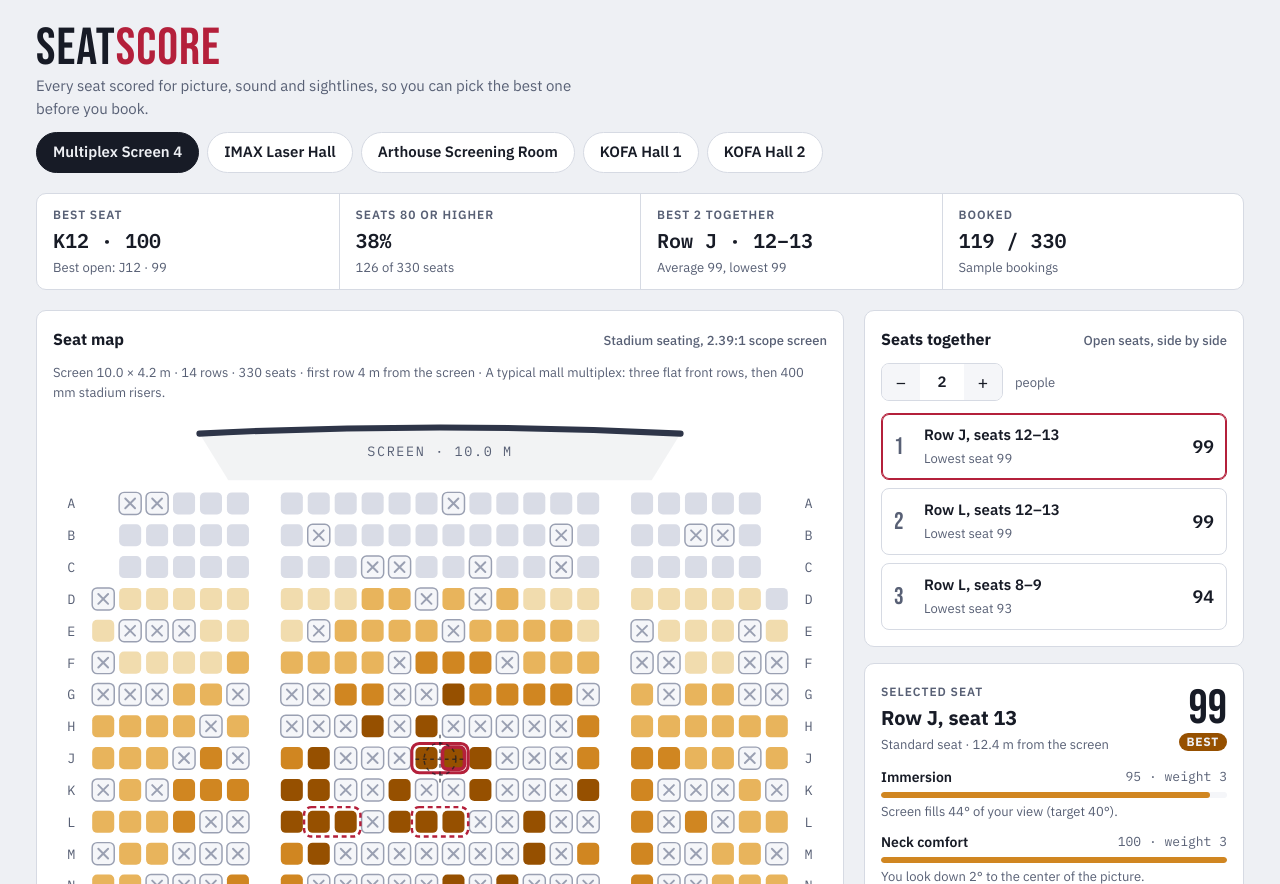
Test case: SeatScore app › switches theaters
Click the tab "IMAX Laser Hall" at (280, 153), box [207,132,353,173]
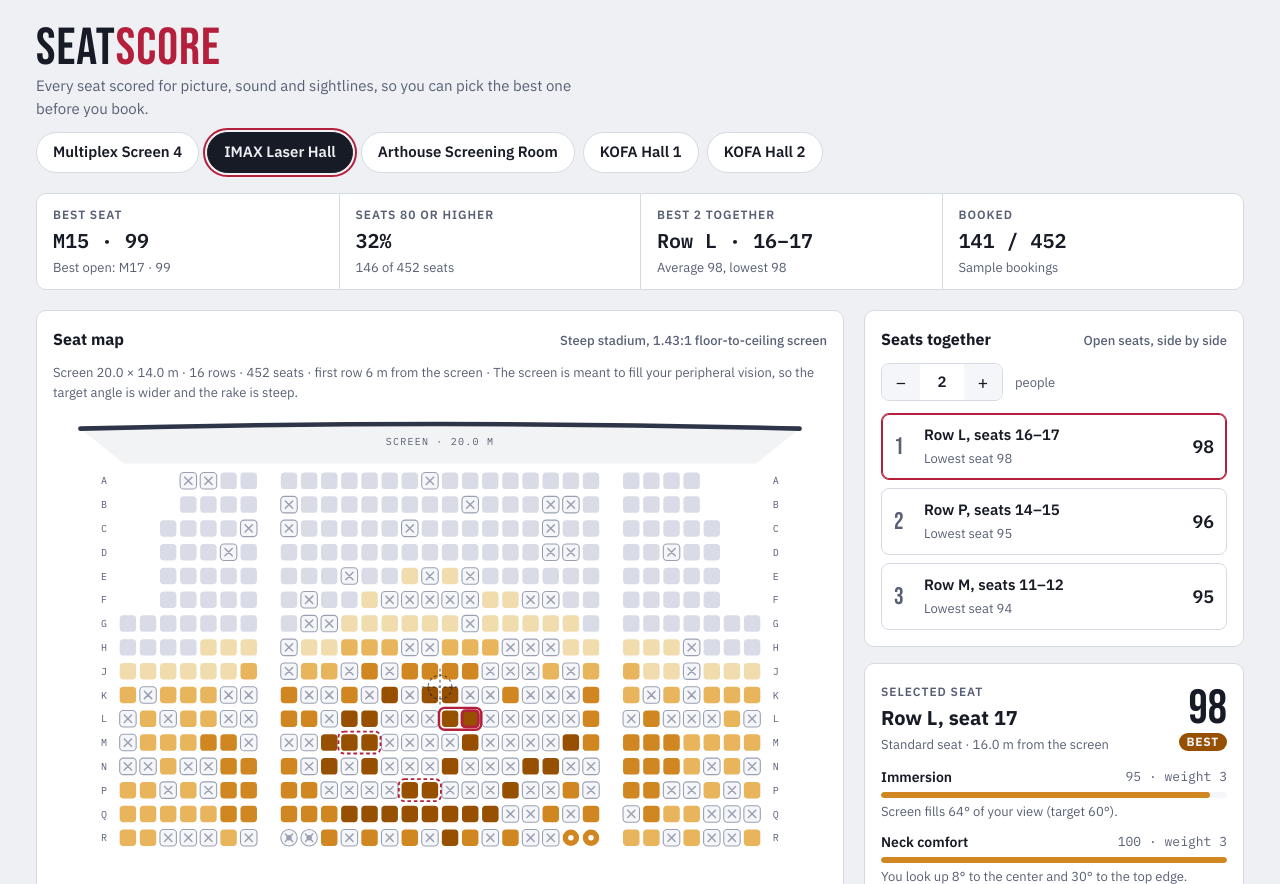
Check: the picture named "Seat map for IMAX Laser Hall" is shown, box [53,414,827,870]
Check: the text "141 / 452" is shown, box [958,227,1066,254]
